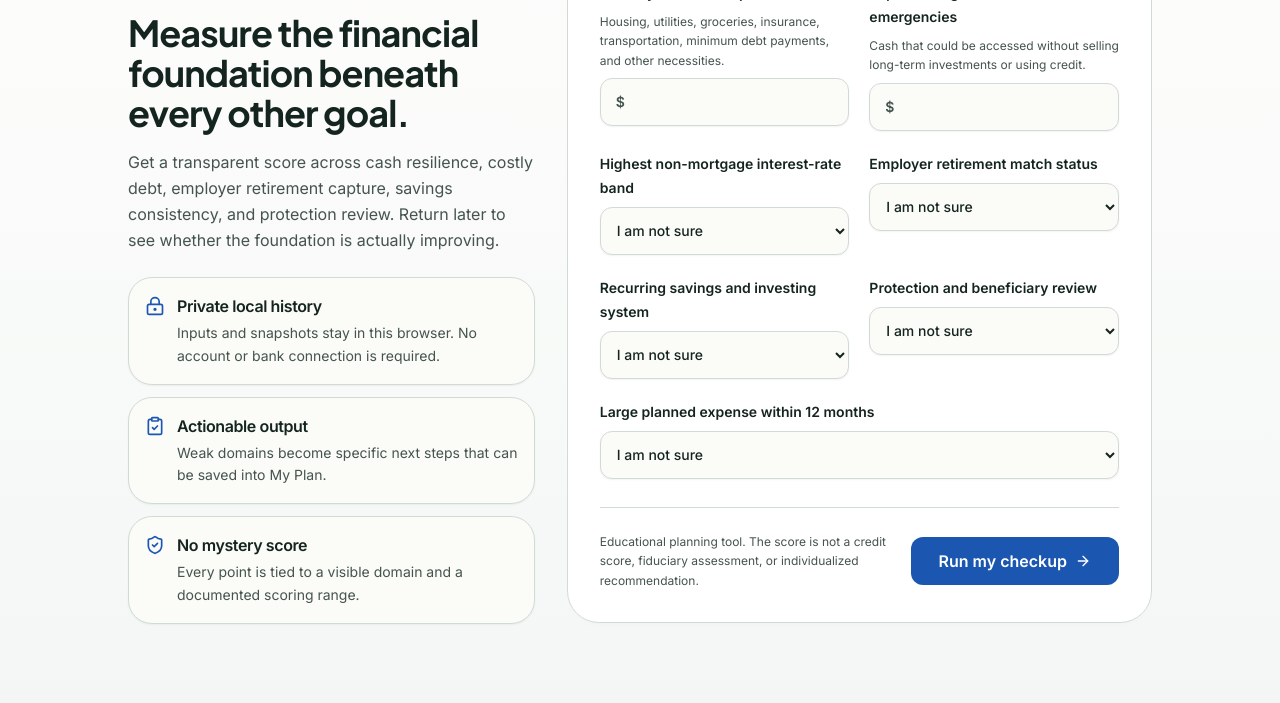
Test case: FinancialFoundationCheckup › requires essential expenses before calculating runway
(page scrolled)
Click the button "Run my checkup" at (1015, 561), box [911, 537, 1119, 585]
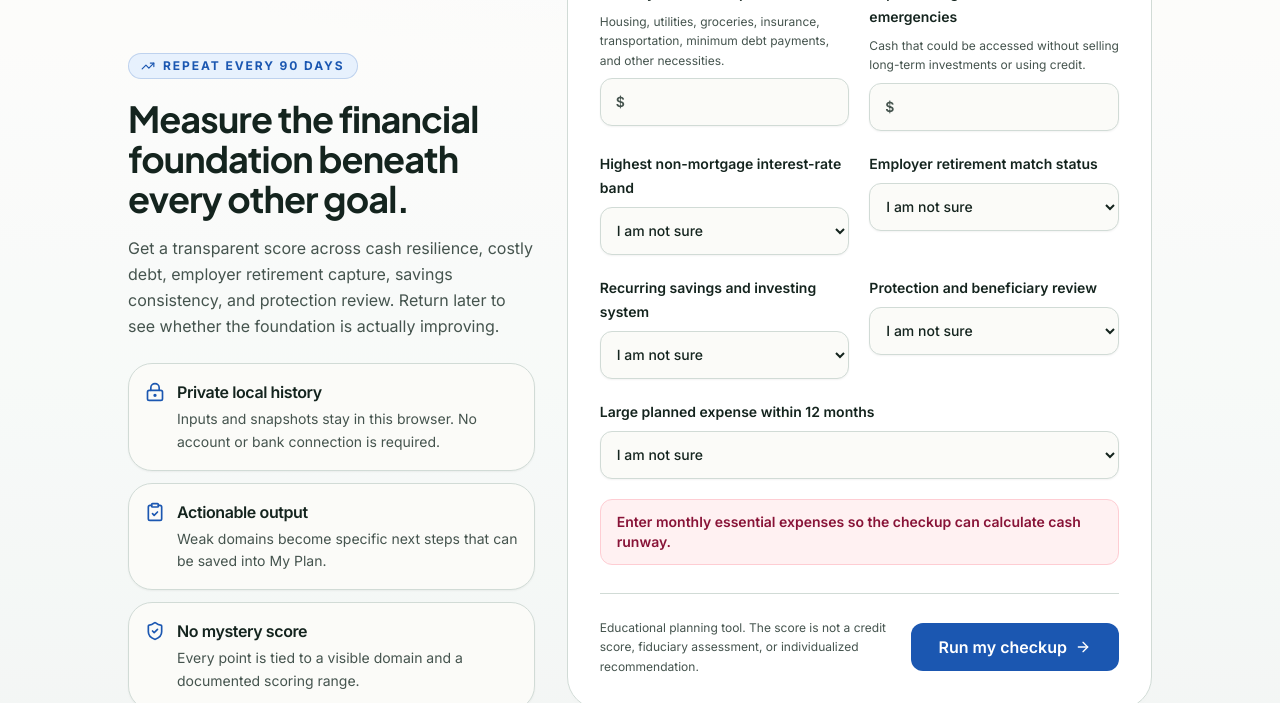
expect the message shows "Enter monthly essential expenses": met, box [617, 512, 1081, 550]
